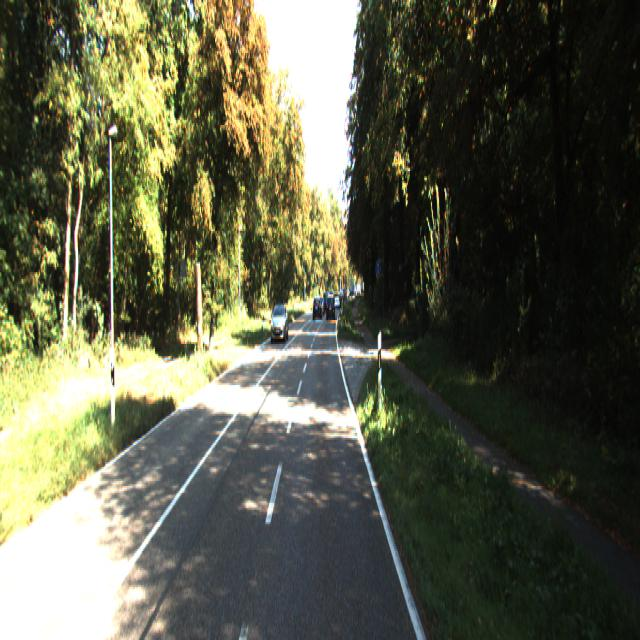Car: (270, 298, 290, 339)
